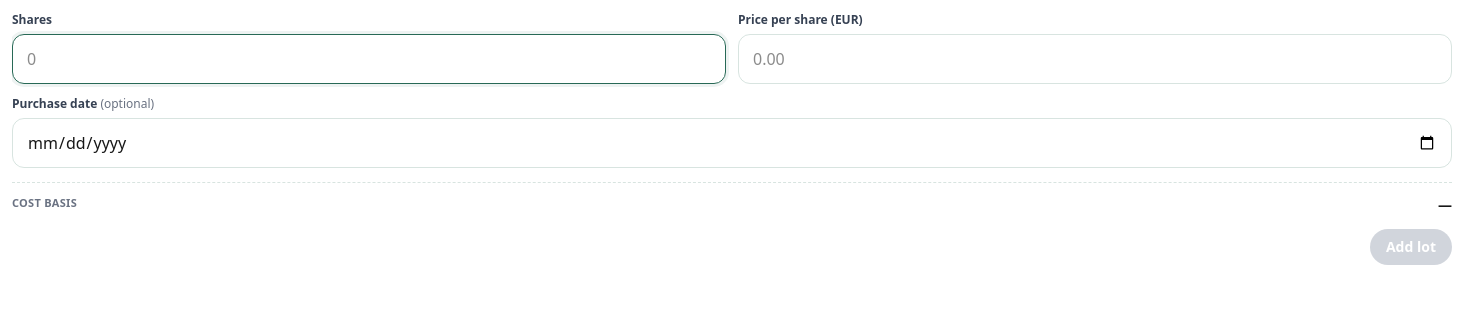
it: LotForm › rejects 1abc
Type "2" into the field labelled "Shares" at (369, 59), box [12, 34, 726, 84]
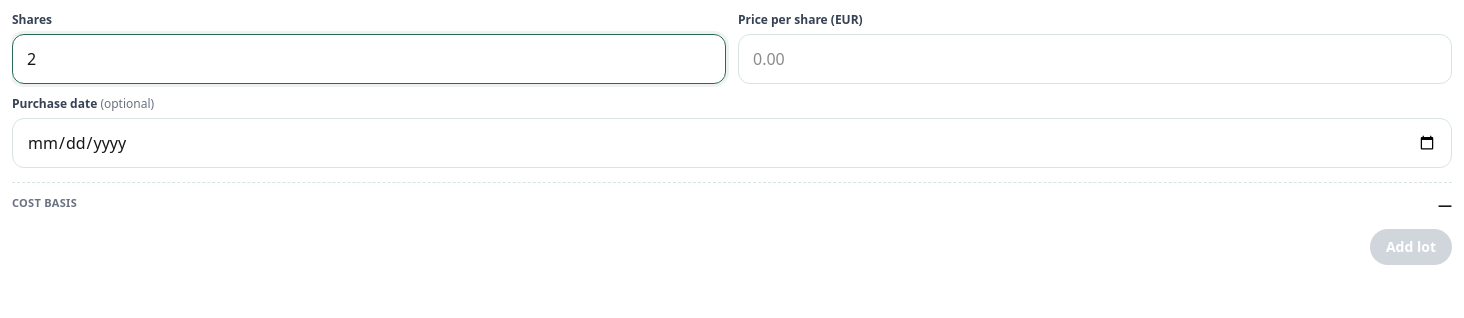
Type "1abc" into the field labelled "Price per share (EUR)" at (1095, 59), box [738, 34, 1452, 84]
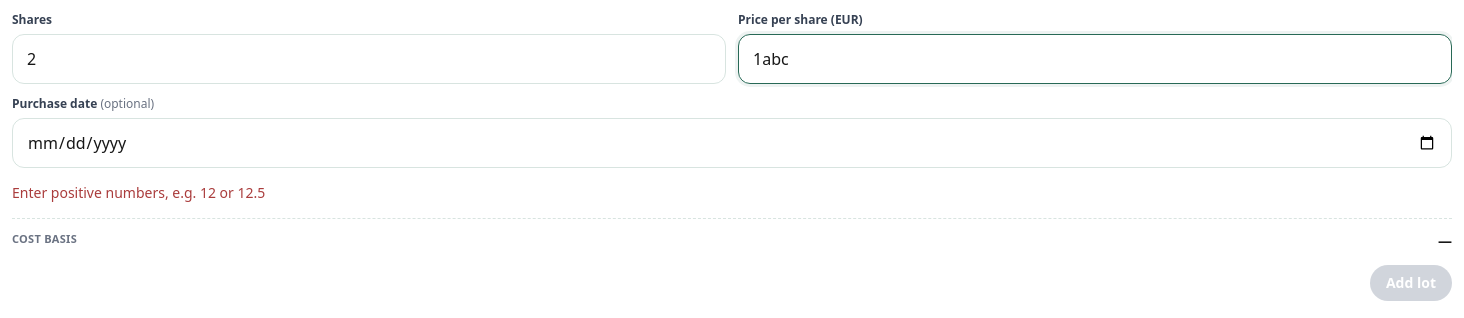
Check: the button "Add lot" is disabled, box [1370, 265, 1452, 301]
Check: the text "Enter positive numbers, e.g. 12 or 12.5" is shown, box [12, 183, 265, 202]
